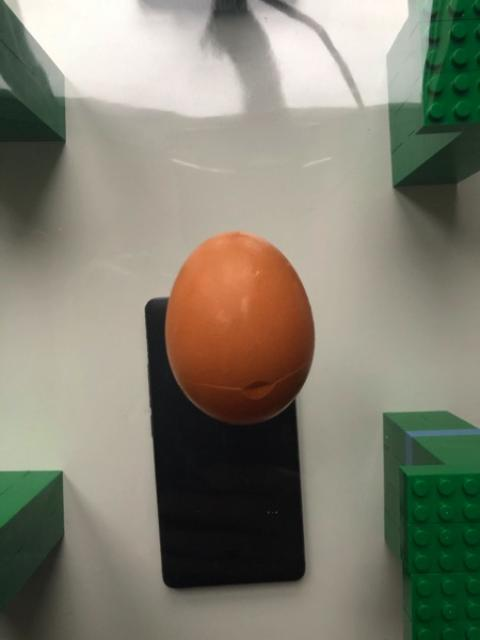Roto: (163, 229, 316, 426)
